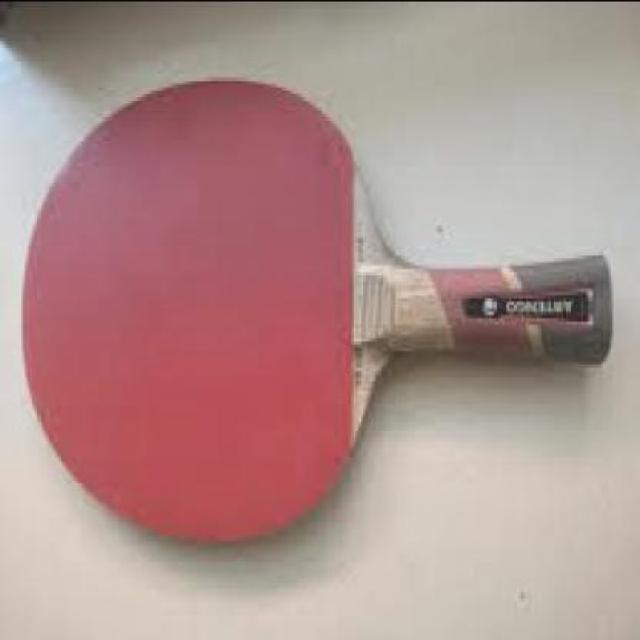table_tennis_racket: (20, 78, 609, 552)
